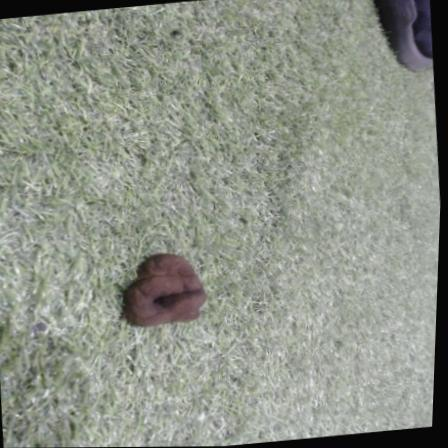dog-poop: (118, 251, 214, 329)
